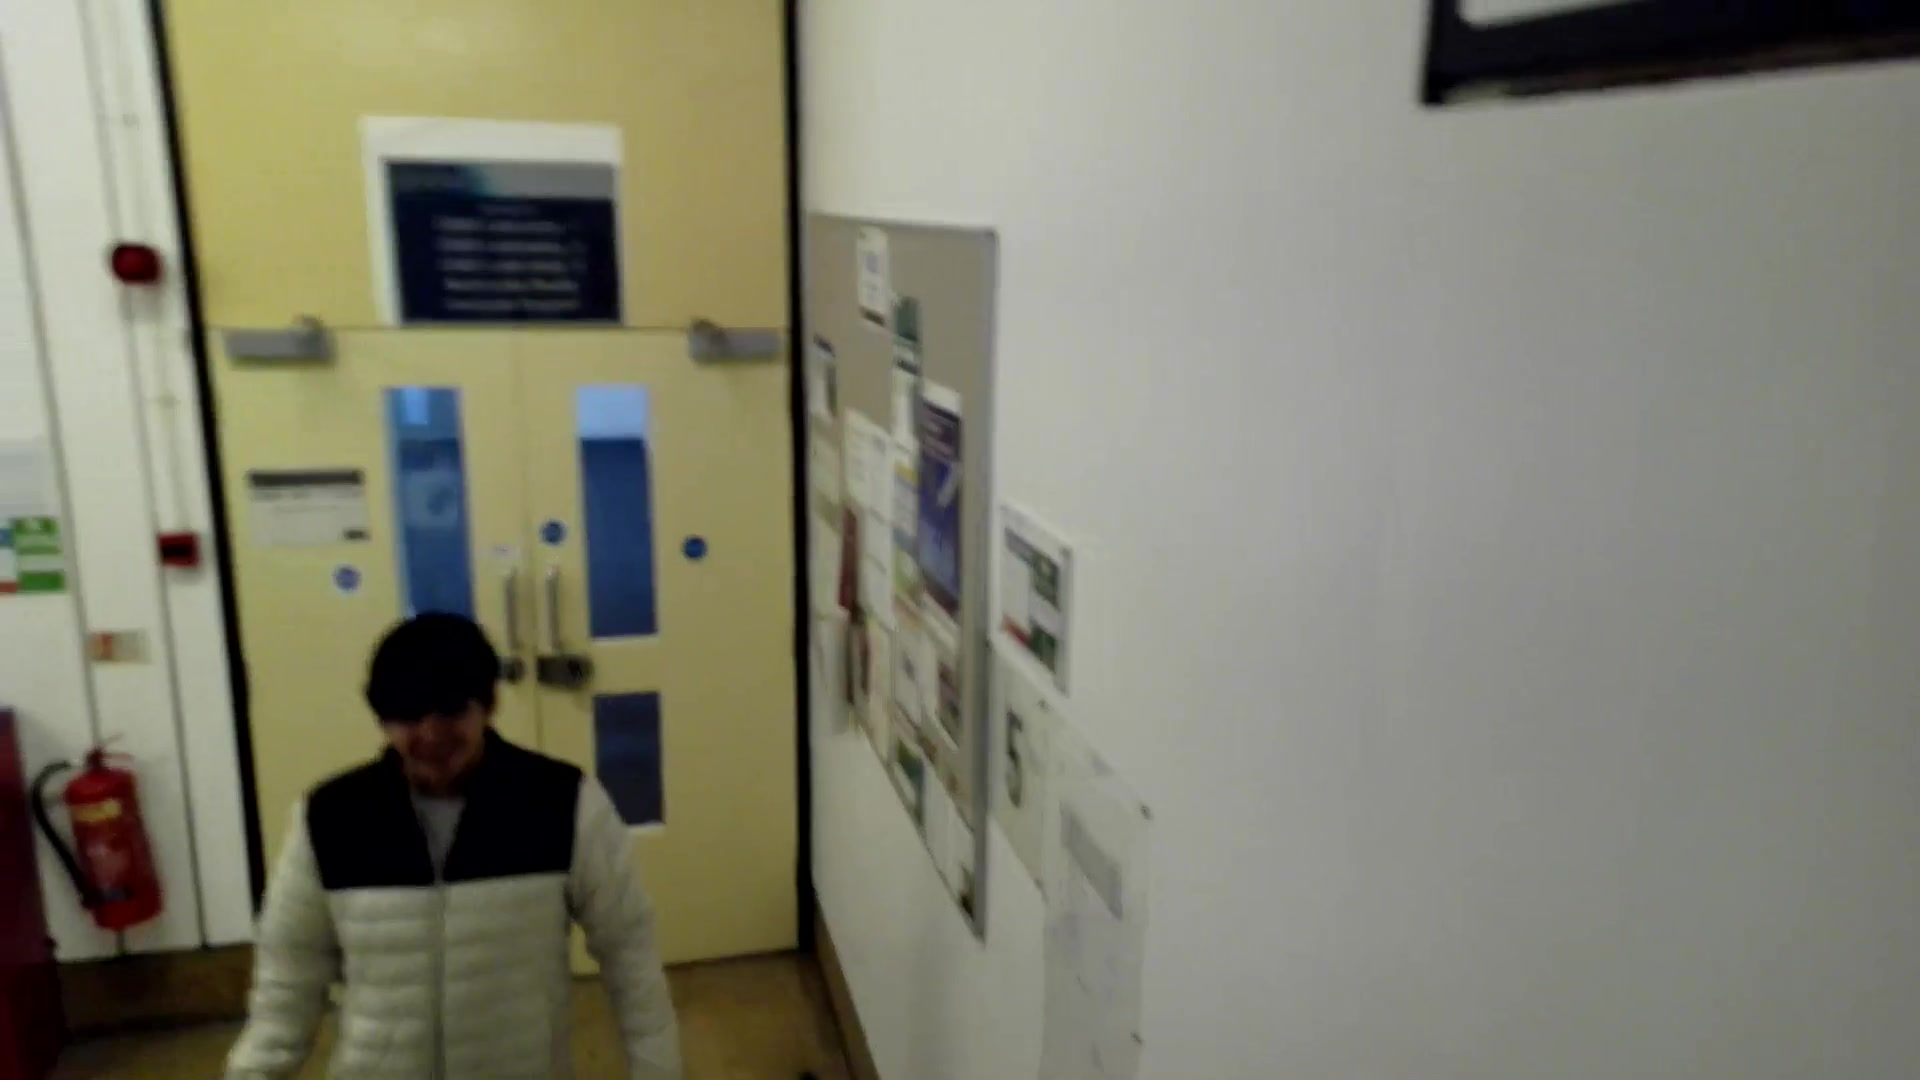Person: (261, 611, 692, 1080)
